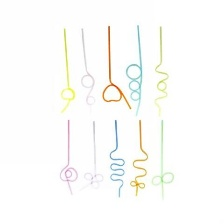drinking_straw: (98, 24, 133, 113), (53, 23, 81, 115), (148, 24, 173, 117), (149, 118, 176, 202), (102, 119, 129, 200), (56, 117, 81, 199)
